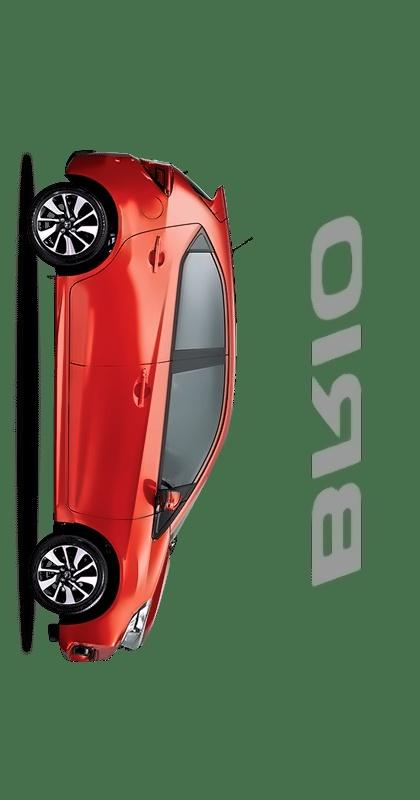Driver-s door - -F-R-: (70, 362, 234, 518)
Fender - -F-R-: (38, 510, 170, 605)
Fender - -R-R-: (57, 164, 206, 285)
Front bumper: (54, 584, 134, 663)
Headlight - -R-: (112, 584, 161, 678)
Passenger-s door - -R-R-: (66, 226, 243, 363)
Rear bumper: (50, 133, 136, 192)
Rear light - -R-: (125, 143, 186, 207)
Side bumper - -R-: (48, 263, 81, 541)
Side mirror - -R-: (148, 468, 186, 544)
